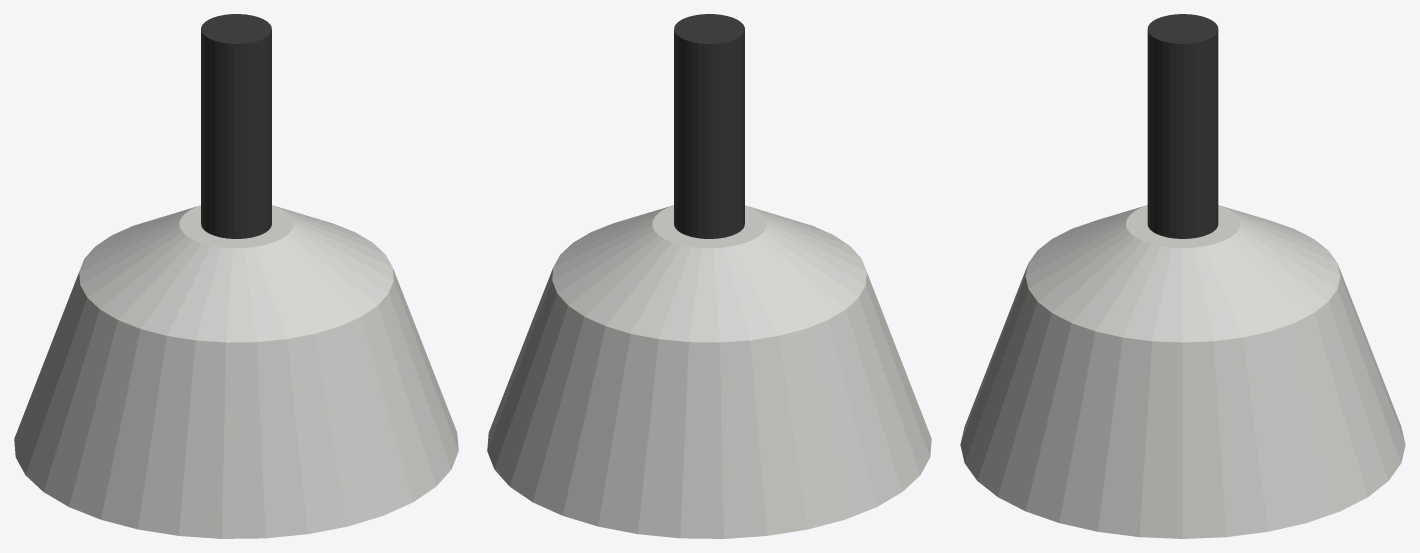
Rendered from lamp.fbx.
3 views of the same model, side by side, from view 1: azimuth 30°, elevation 25°; view 2: azimuth 150°, elevation 25°; view 3: azimuth 270°, elevation 25° (orthographic).
Visible parts, largest first — view 1: lampshade, lampstandard; view 2: lampshade, lampstandard; view 3: lampshade, lampstandard.
Boxes of the visible parts, left/top/right/bottom form: lampshade: left=14, top=205, right=458, bottom=538; lampstandard: left=201, top=14, right=271, bottom=238; lampshade: left=487, top=205, right=931, bottom=538; lampstandard: left=674, top=14, right=744, bottom=238; lampshade: left=960, top=205, right=1405, bottom=538; lampstandard: left=1147, top=14, right=1218, bottom=238.
Bounding box in the file's own units: 245 × 277 × 245.
Materials: 3 (3 with a texture image).
